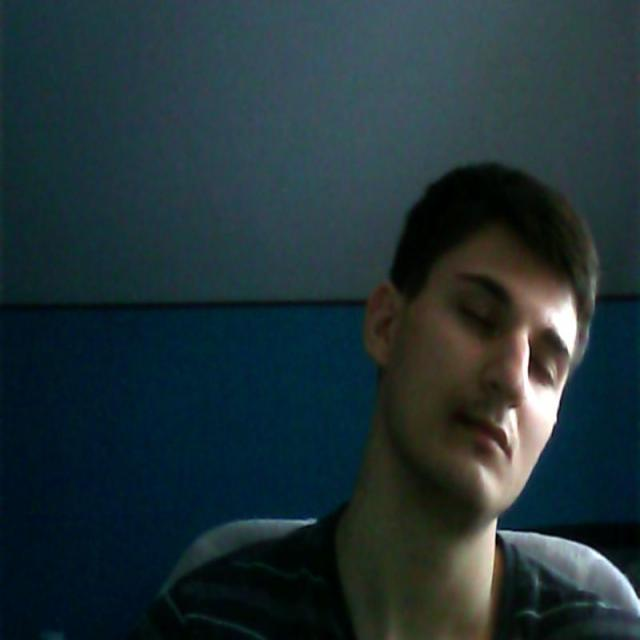Eyeclosed: (459, 295, 496, 341), (531, 350, 557, 393)
